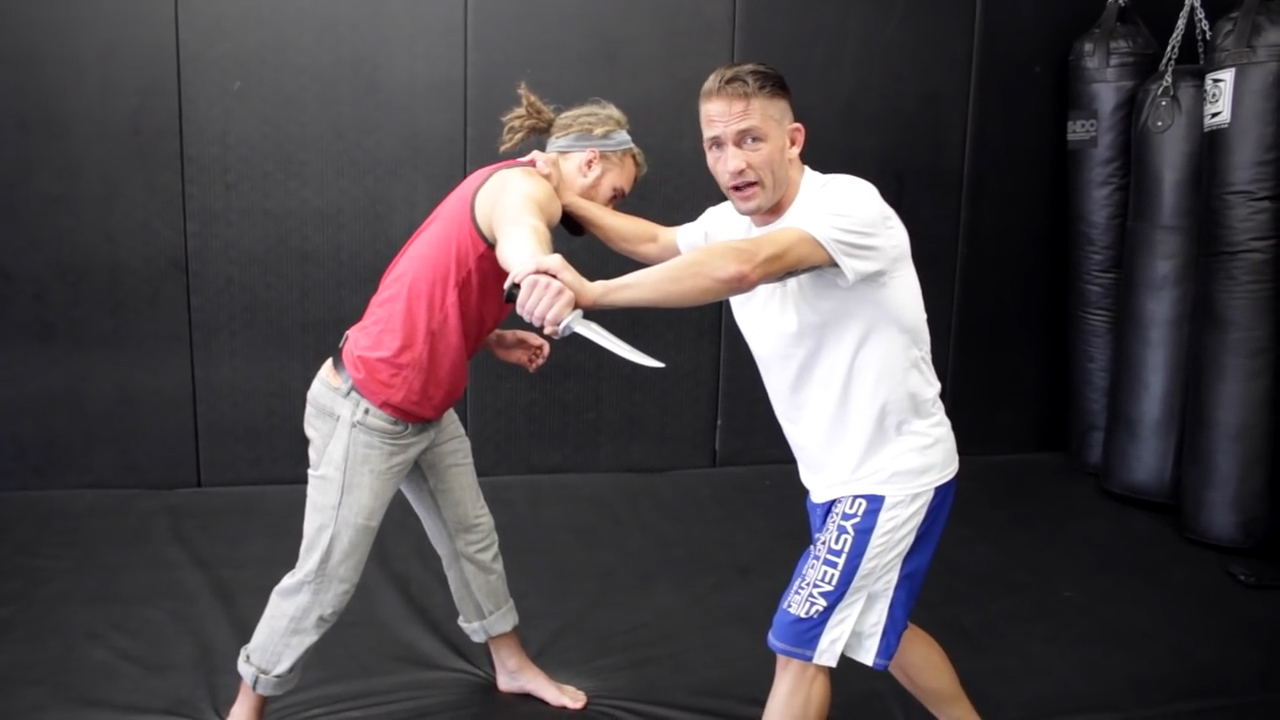knife: (496, 269, 673, 379)
